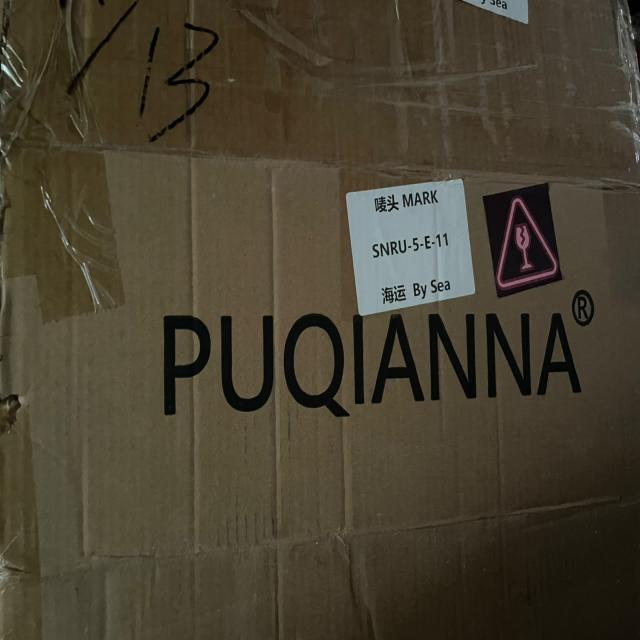carton_box: (1, 5, 640, 640)
export_mark_label: (342, 179, 487, 309)
fragile_label: (484, 188, 571, 296)
package_damage: (0, 371, 45, 449)
